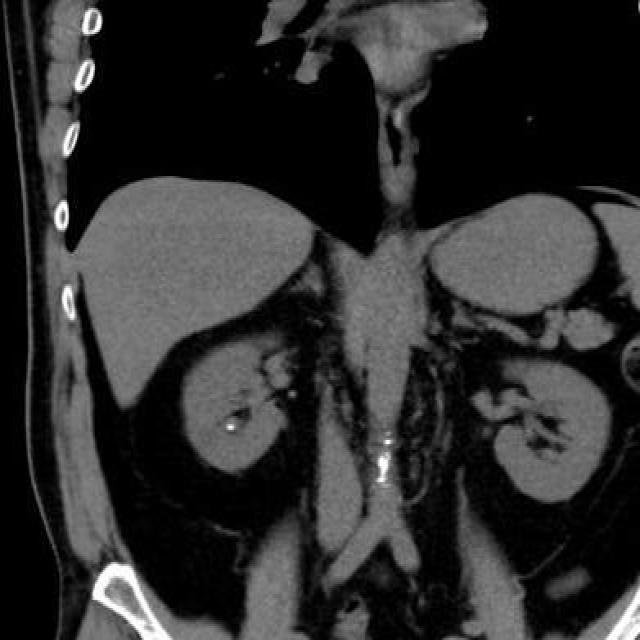Tas_Var: (224, 420, 239, 434)
